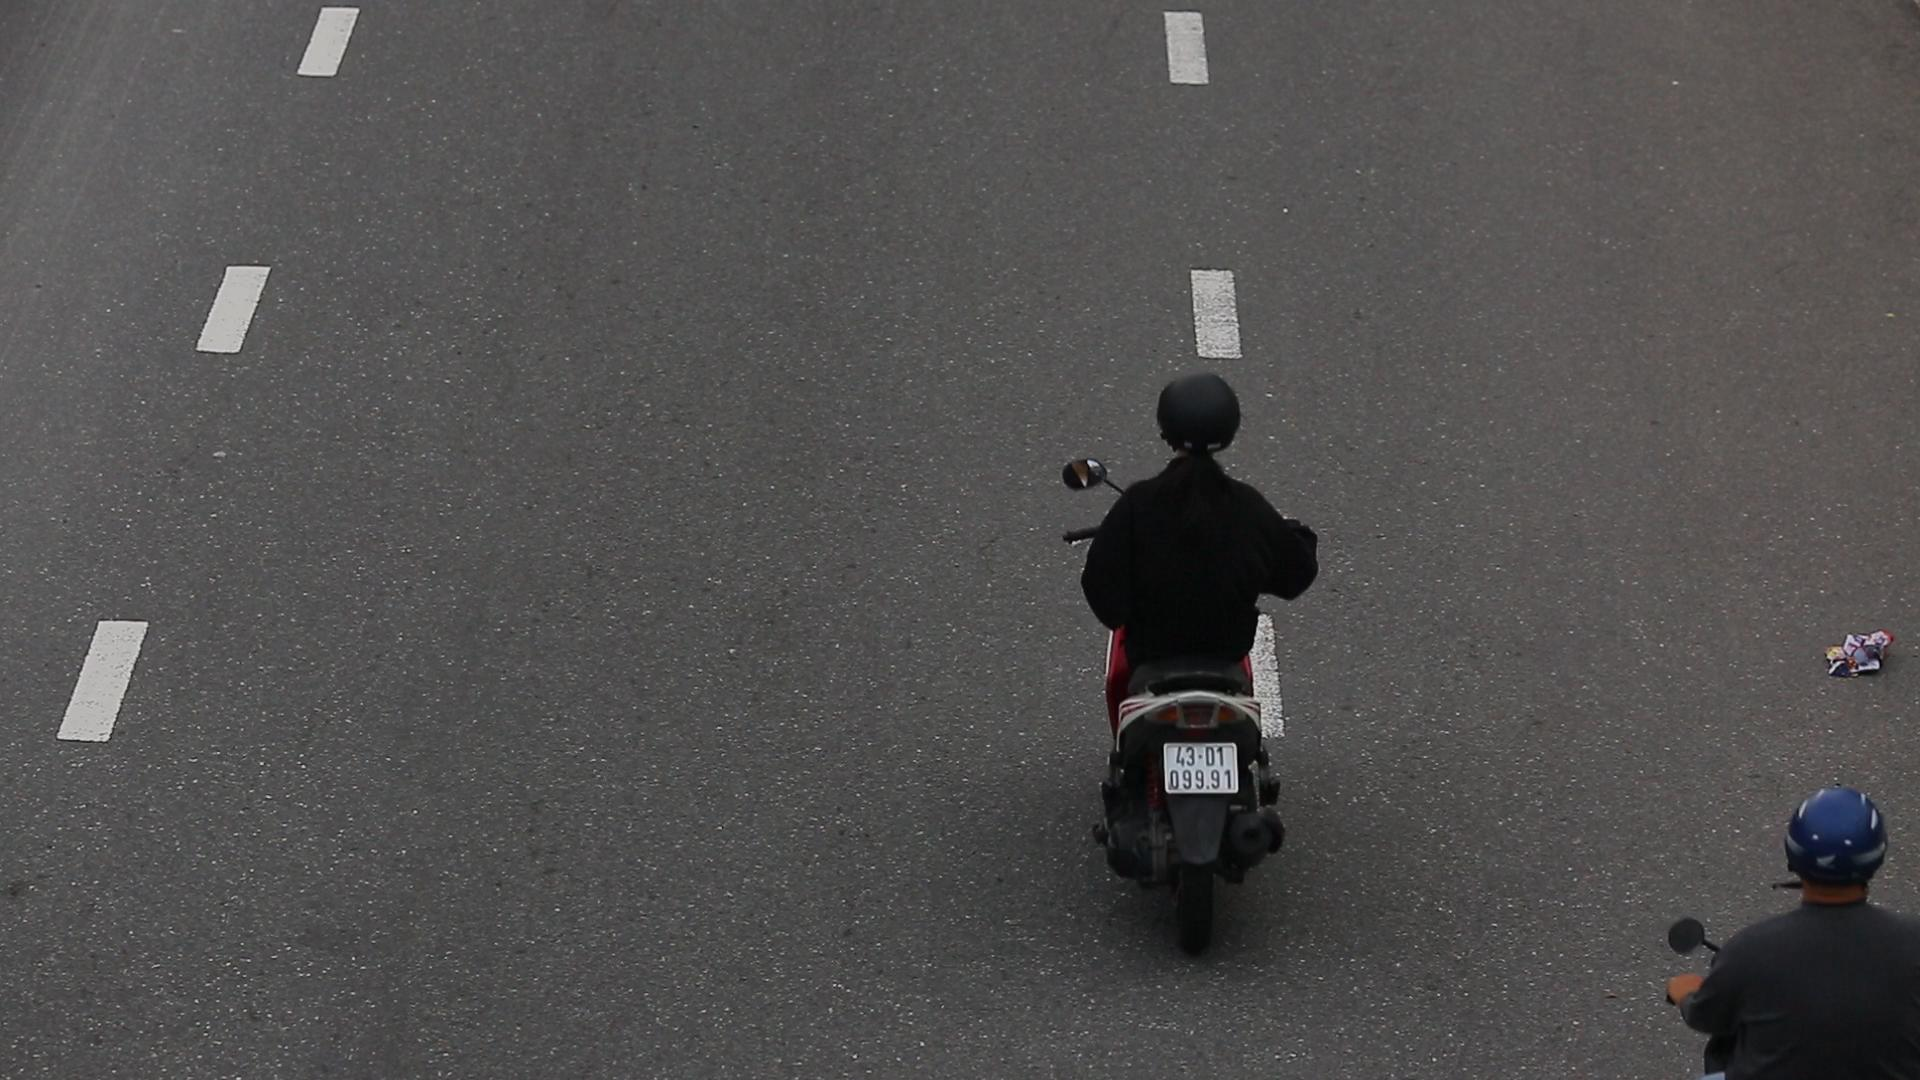motobike: (1043, 352, 1348, 978)
